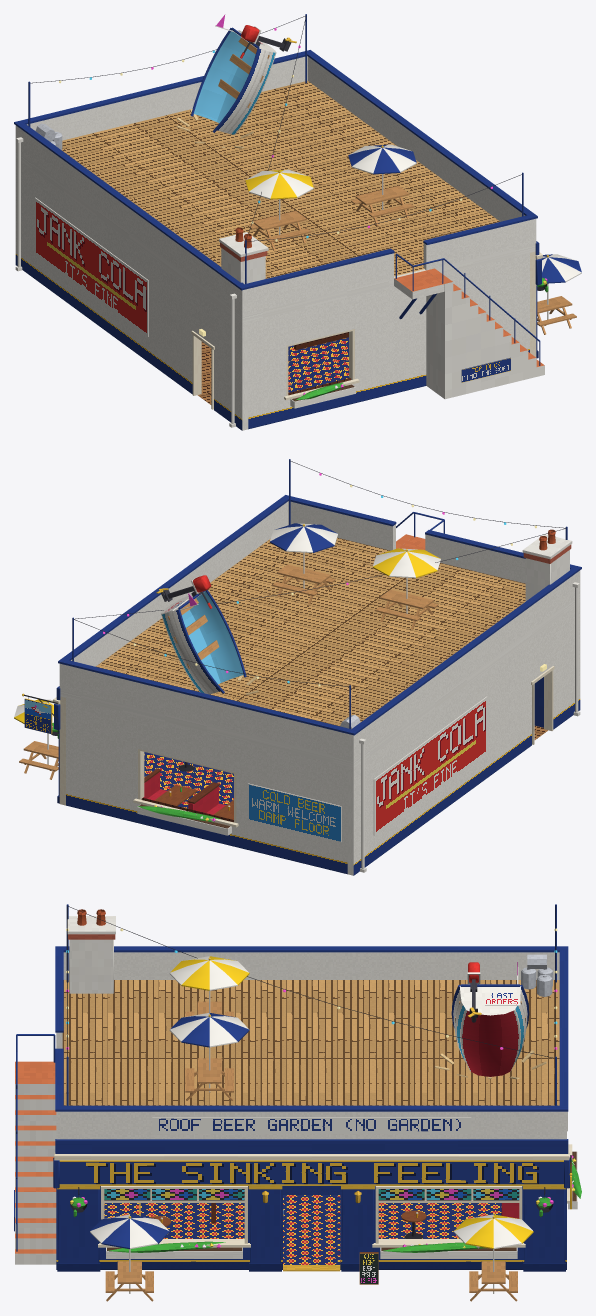
The model's file is p_pj_pub.glb.
The picture shows the model from 3 angles, top to bottom: view 1: azimuth 30°, elevation 25°; view 2: azimuth 150°, elevation 25°; view 3: azimuth 270°, elevation 25°; orthographic projection. The views are drawn at different scales.
Visible parts, largest first — view 1: p_pj_pub_lod0; view 2: p_pj_pub_lod0; view 3: p_pj_pub_lod0.
Part boxes in pixels (<box>): p_pj_pub_lod0: <box>14,14,581,430</box>; p_pj_pub_lod0: <box>14,459,581,875</box>; p_pj_pub_lod0: <box>14,904,581,1301</box>.
Size of what is drawn, in the model's own units: 15.27 by 8.68 by 17.8.
2 materials, 2 textured.
